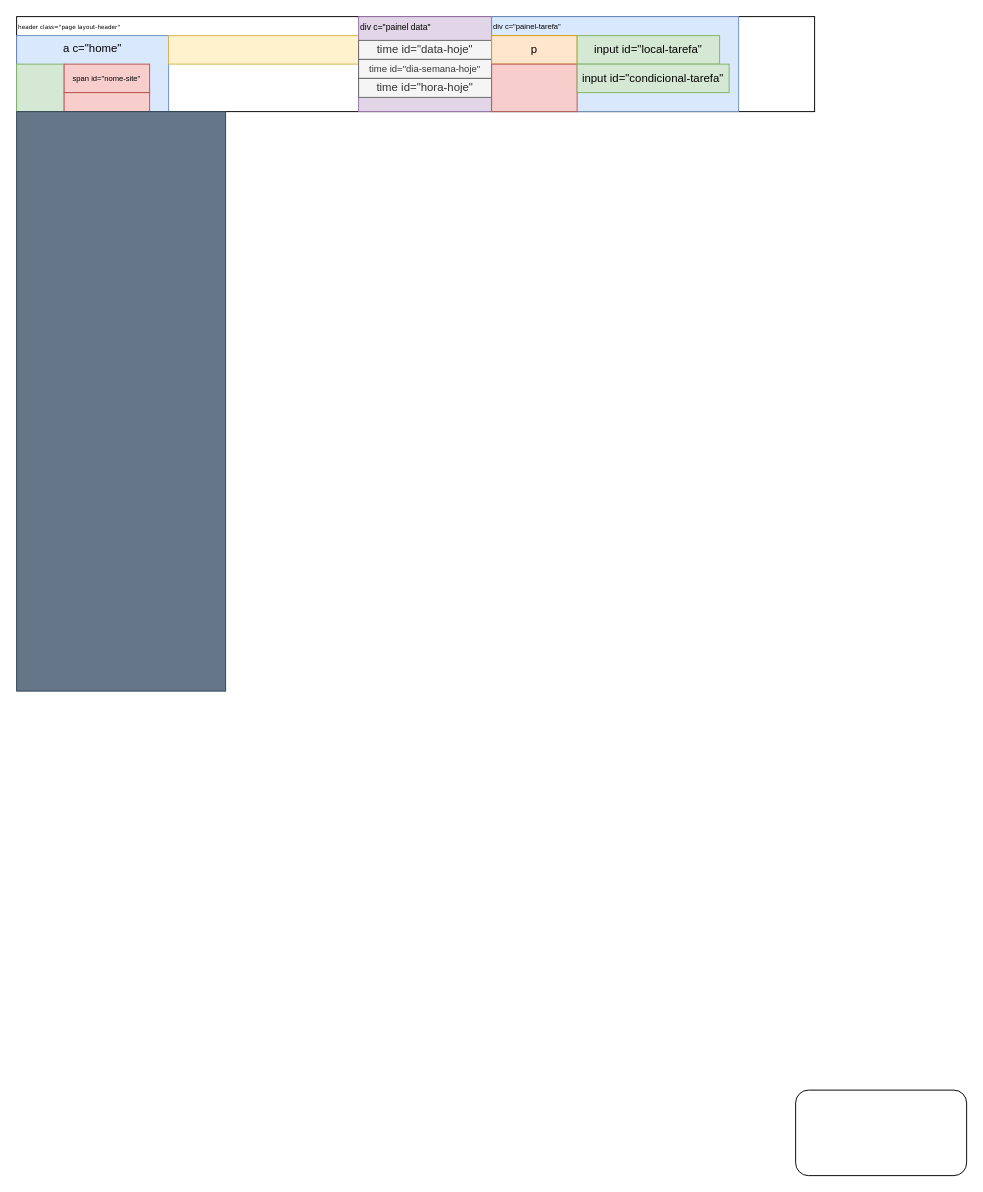
This 983x1192 diagram has some shape labels left out. Each missing label, with the centre of its shape:
img c logo-shuukan: point 40,87
input id="quick": point 263,49
nav c="sidebar": point 121,401
span id= "proxima-tarefa": point 534,87
span id="slogan": point 106,102
